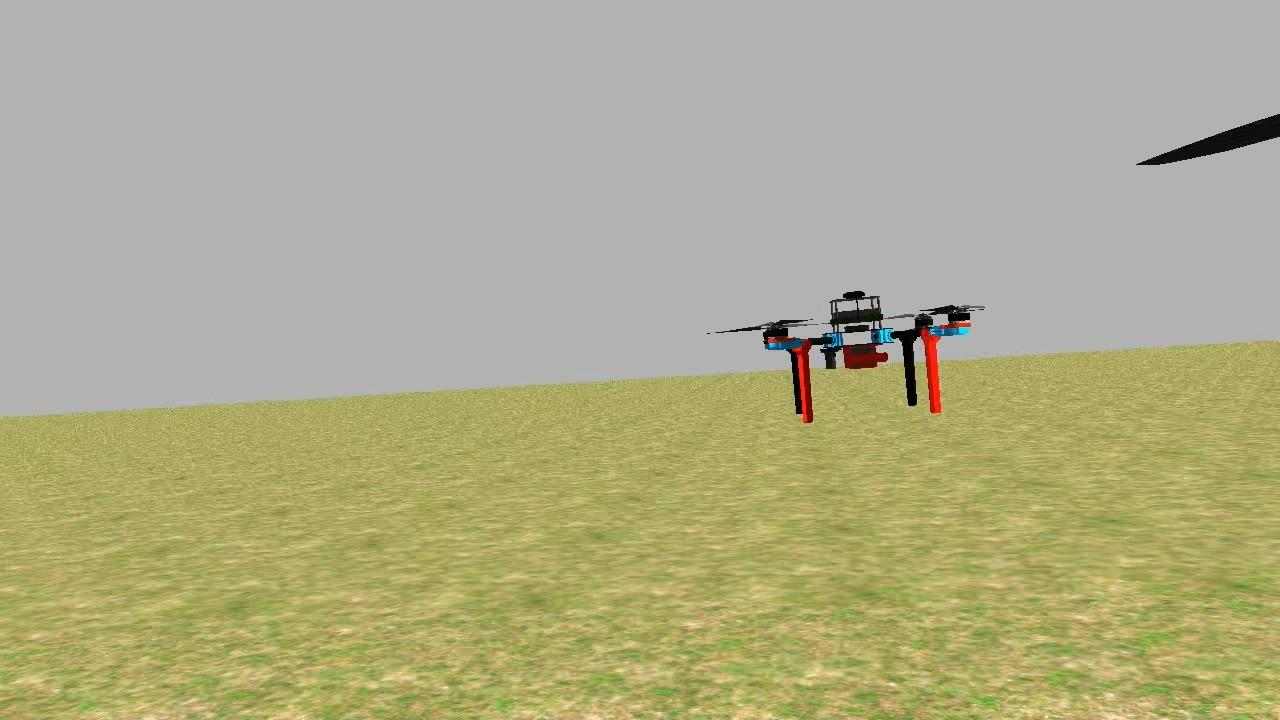UAV: (732, 281, 987, 433)
